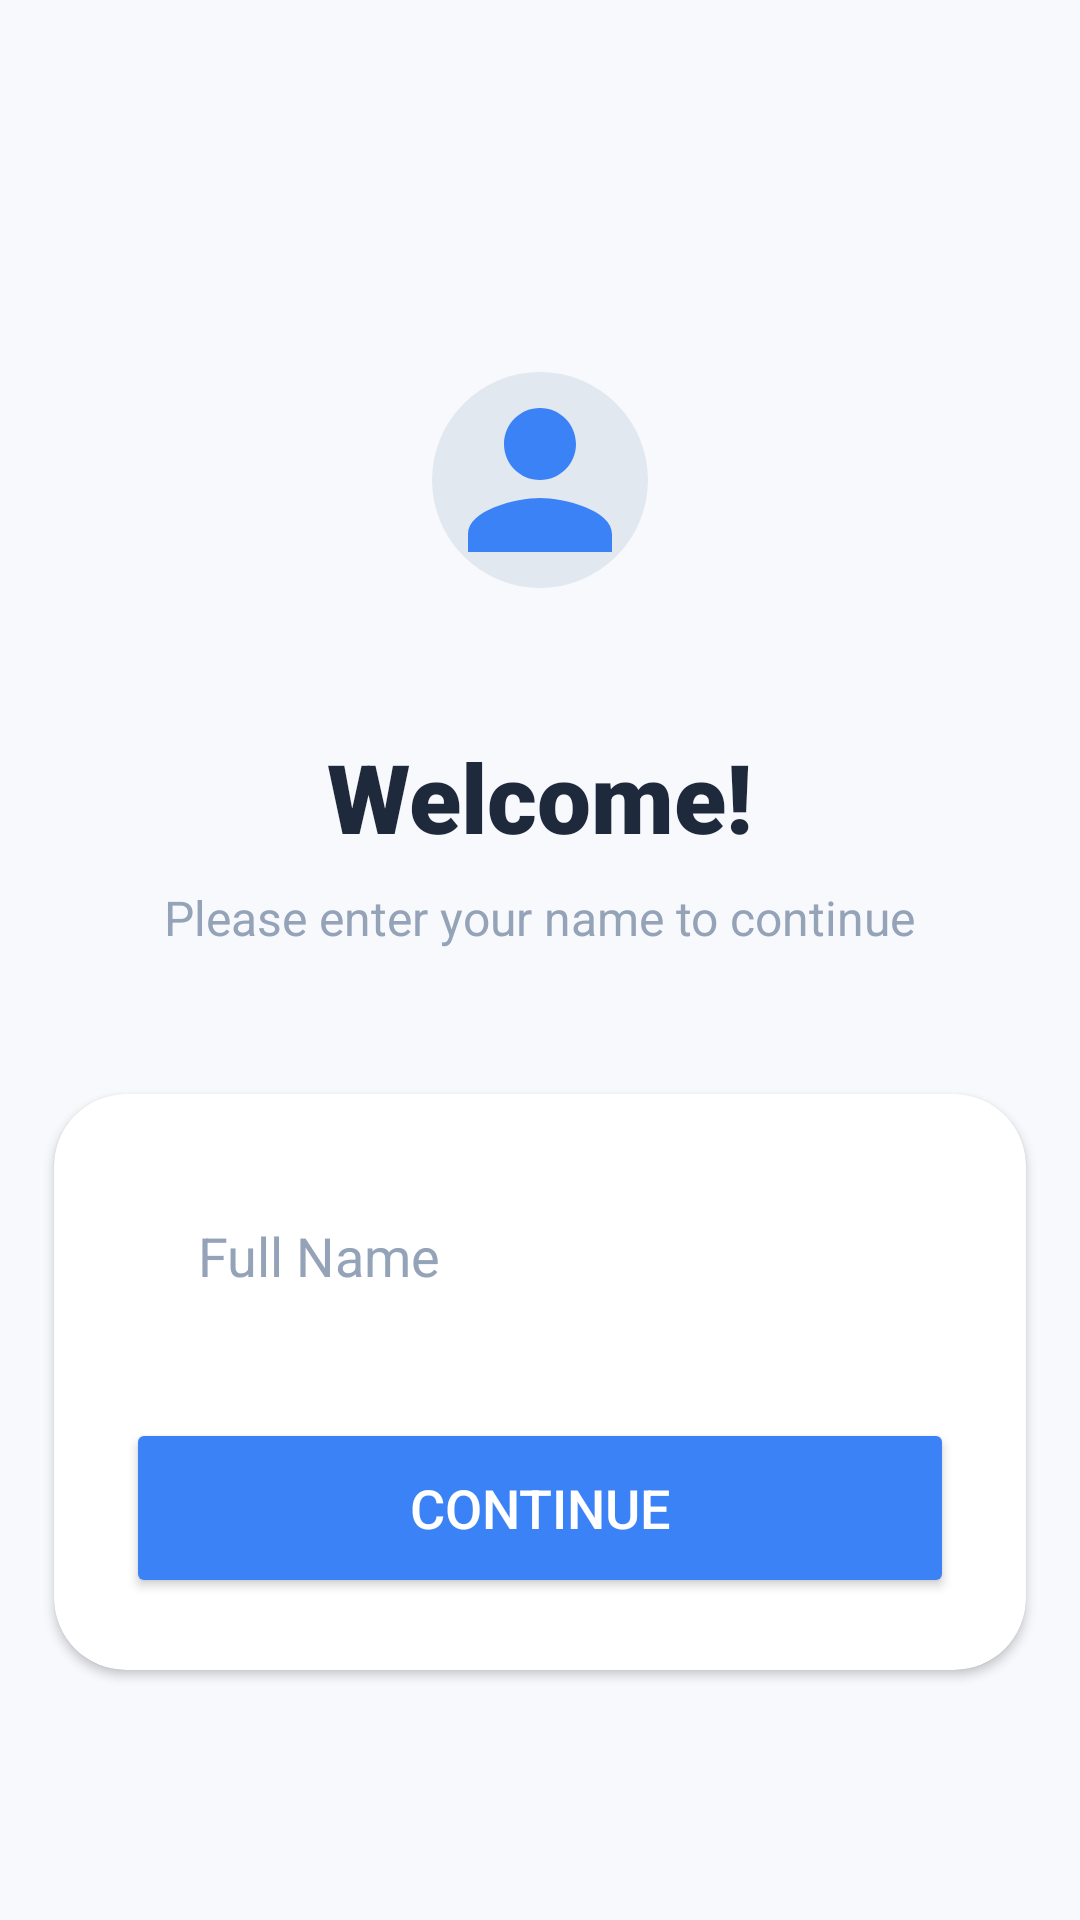

Icon click points for this 1080px x 1920px phone screenshot, format point (x, y):
User Icon: point (540, 480)
